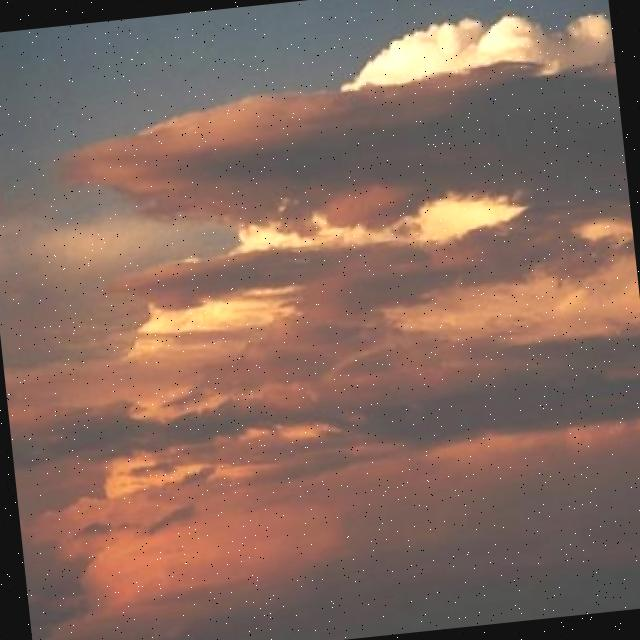Cb: (1, 1, 640, 593)
